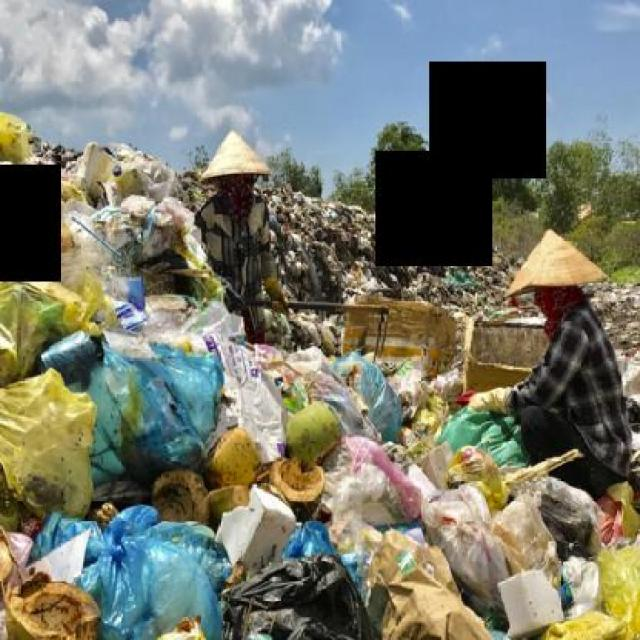plastic bag: (0, 123, 638, 638), (423, 449, 623, 637), (295, 432, 428, 548), (83, 523, 223, 632), (278, 512, 342, 566)
